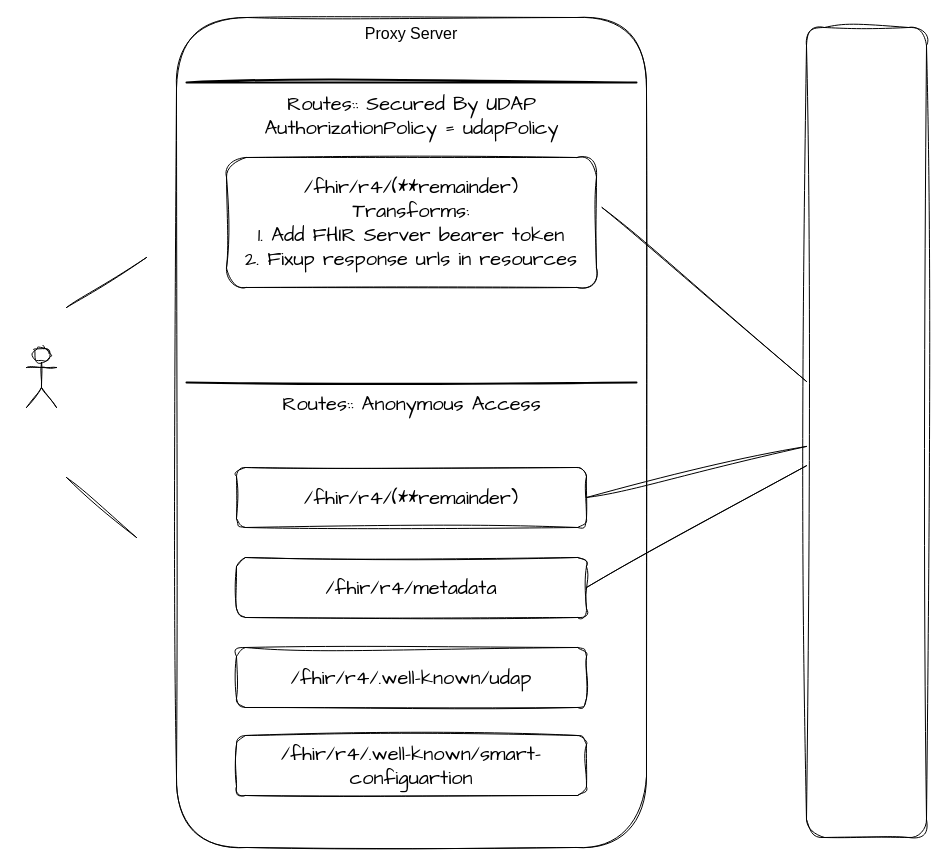
Image size: 944x865. Some labels were removed from this diagram. Here are the shapes that lost their labels. From the top down, the centre of each, then its label:
At point (41, 377): "Client".
At point (866, 432): "FHIR Resource Server".
